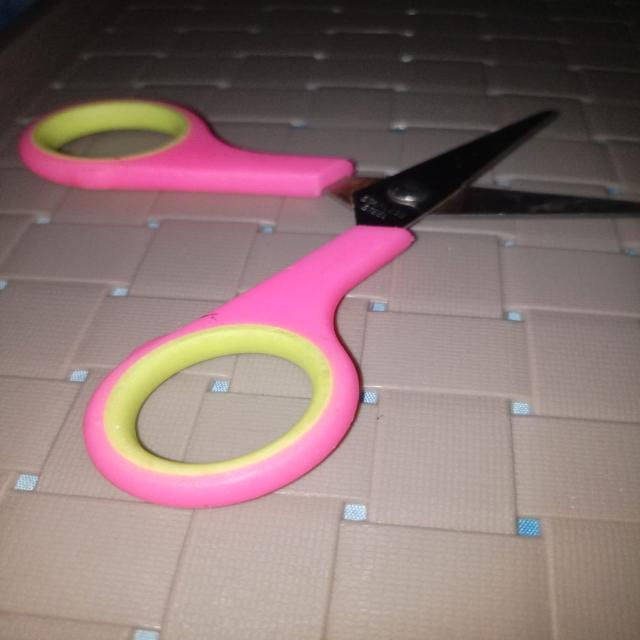scissor: (6, 58, 640, 514)
